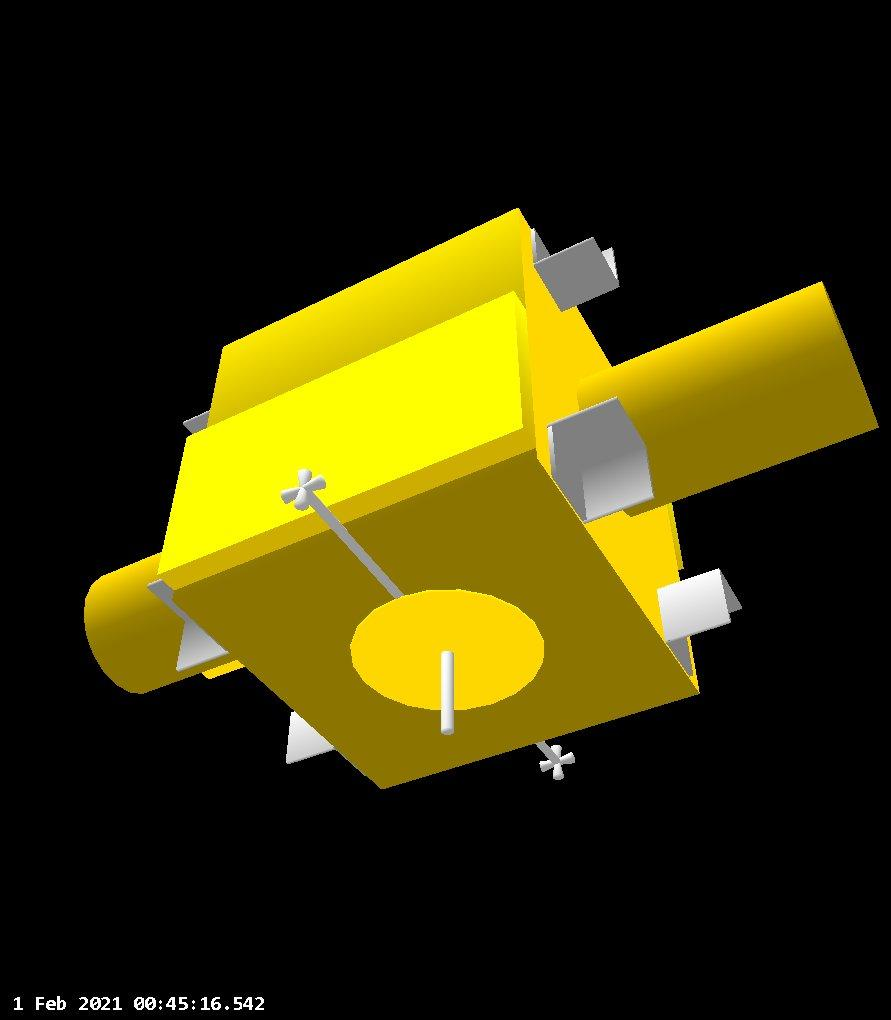antenna: (351, 590, 549, 740), (279, 460, 411, 601), (527, 728, 578, 783)
thruster: (156, 206, 702, 794), (575, 279, 883, 519), (83, 544, 241, 698)
